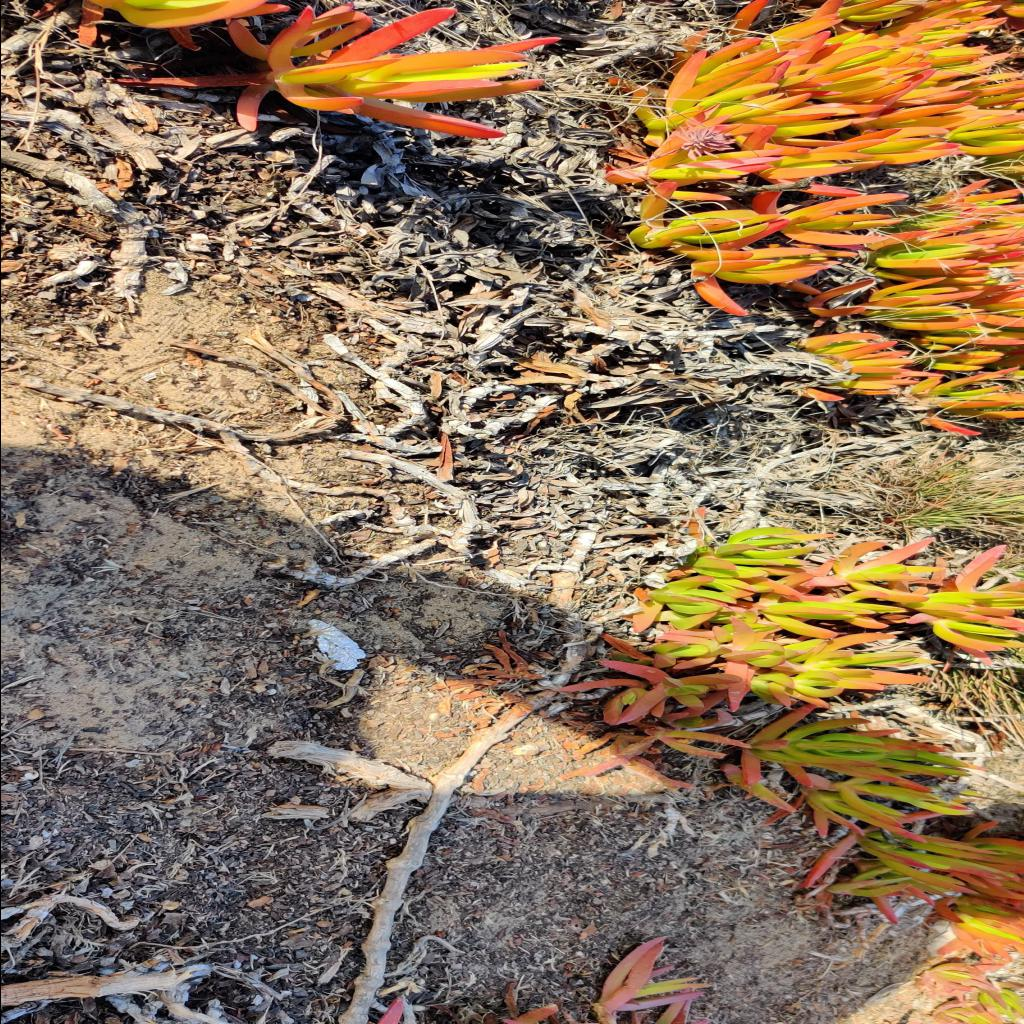Aluminium foil: (308, 620, 364, 670)
